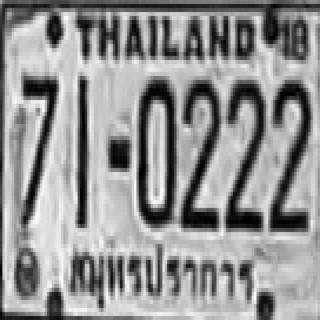N00: (136, 74, 174, 222)
N01: (74, 76, 88, 224), (75, 74, 87, 226)
N02: (225, 76, 265, 228), (179, 76, 219, 228), (270, 76, 310, 228)
N07: (19, 72, 57, 224)
P57: (67, 241, 256, 310)
